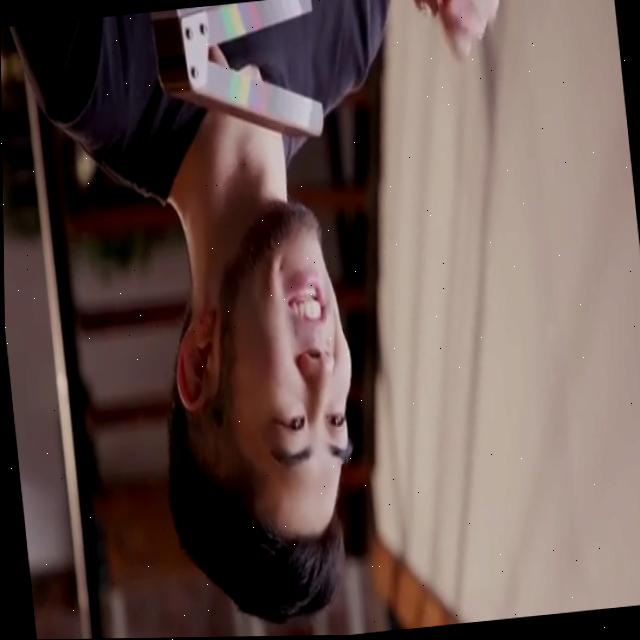Clapperboard: (147, 0, 327, 157)
